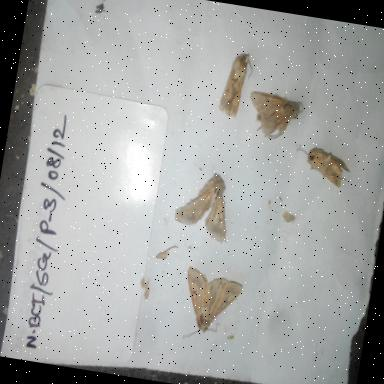abw: (174, 263, 248, 351), (167, 168, 240, 250), (241, 86, 308, 147), (288, 139, 357, 194), (212, 42, 258, 124)
